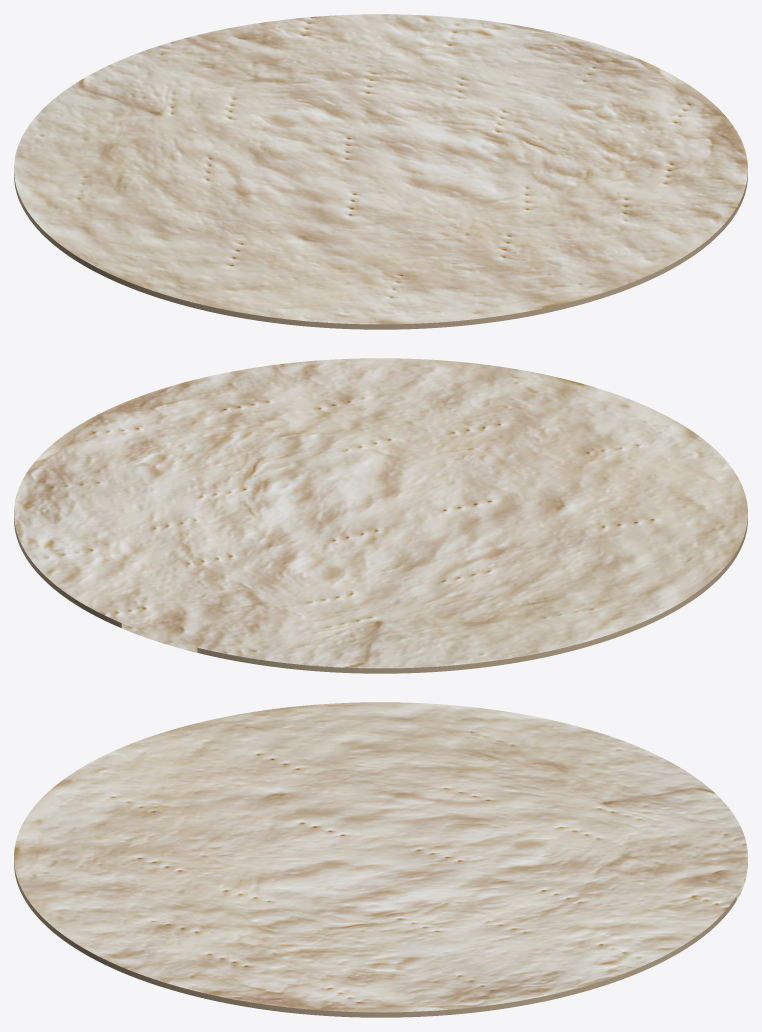
Rendered from pizzadough.fbx.
3 views of the same model, one above another, from view 1: azimuth 30°, elevation 25°; view 2: azimuth 150°, elevation 25°; view 3: azimuth 270°, elevation 25° (orthographic).
Visible parts, largest first — view 1: Cylinder; view 2: Cylinder; view 3: Cylinder.
Boxes of the visible parts, box(x1,y1,x2,y2) form: Cylinder: box(14, 14, 747, 329); Cylinder: box(14, 358, 747, 673); Cylinder: box(14, 702, 747, 1017).
Size of the model in its own units: 200 by 1.59 by 200.
